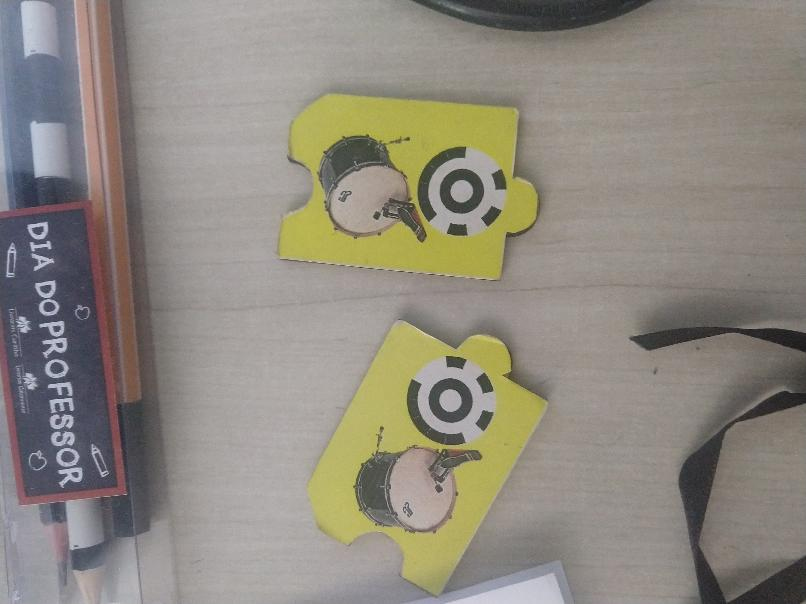bumbo: (308, 317, 551, 599), (278, 89, 546, 279)
